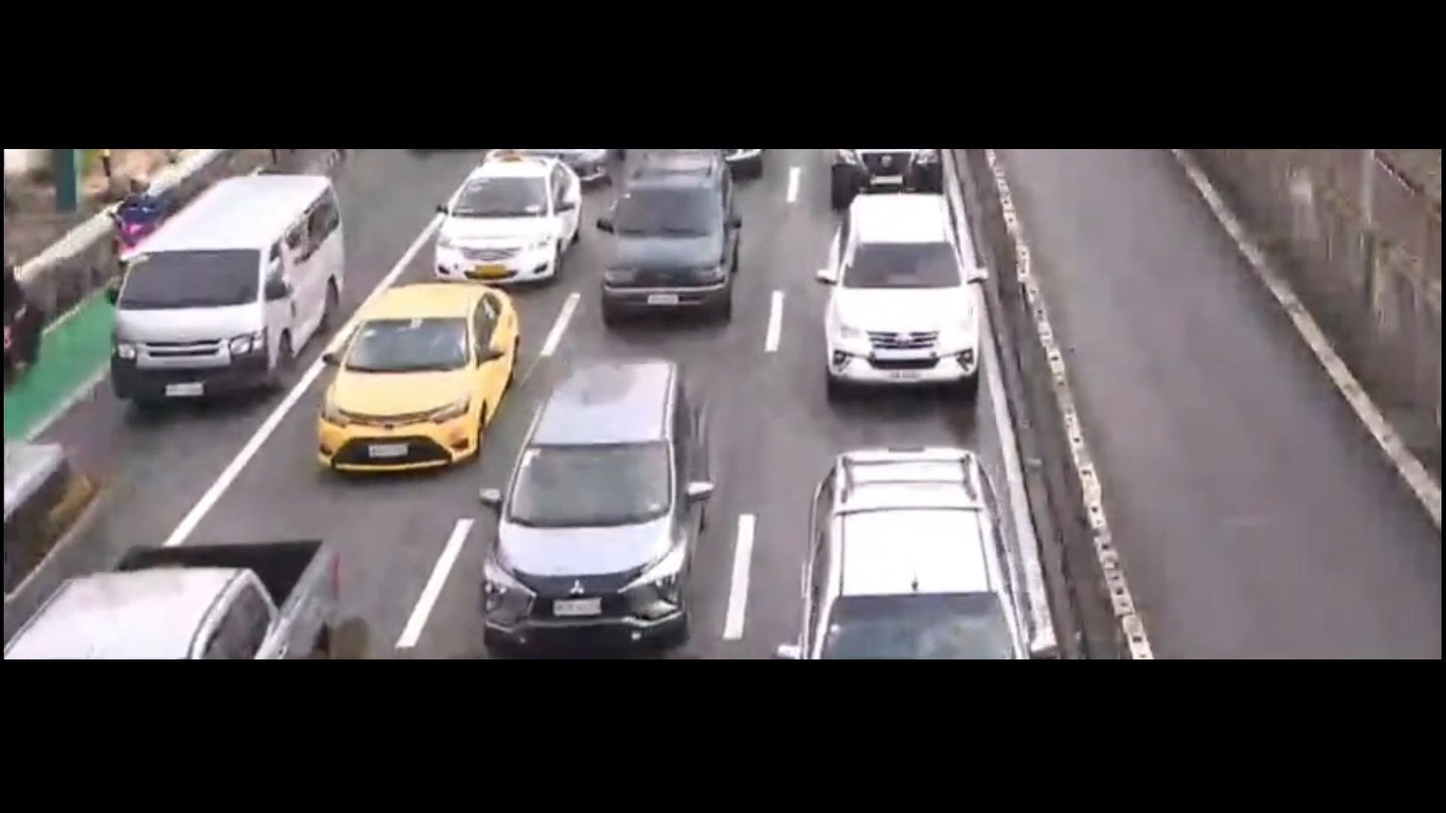Motorcycle: (97, 164, 168, 283)
Pickup: (9, 505, 360, 657)
SUV: (448, 350, 723, 649), (799, 426, 1048, 667), (802, 175, 1006, 410), (566, 143, 761, 337)
Sedan: (307, 285, 522, 480), (421, 153, 592, 300)
Van: (76, 157, 371, 417)
